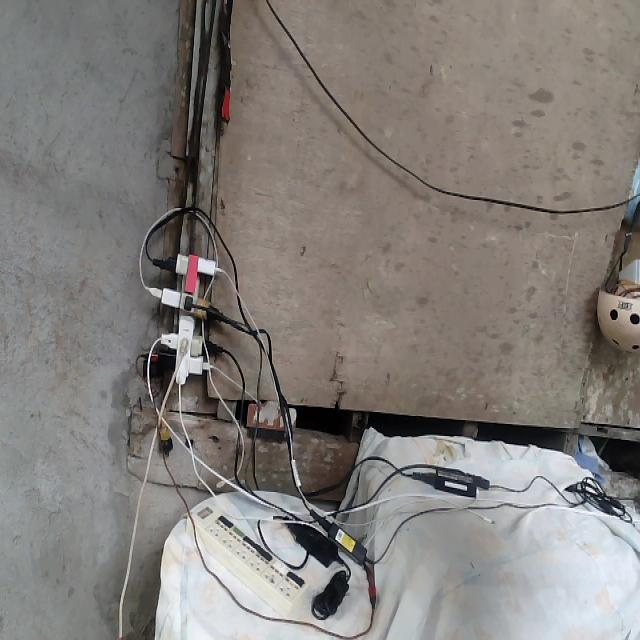-: (151, 251, 222, 381)
